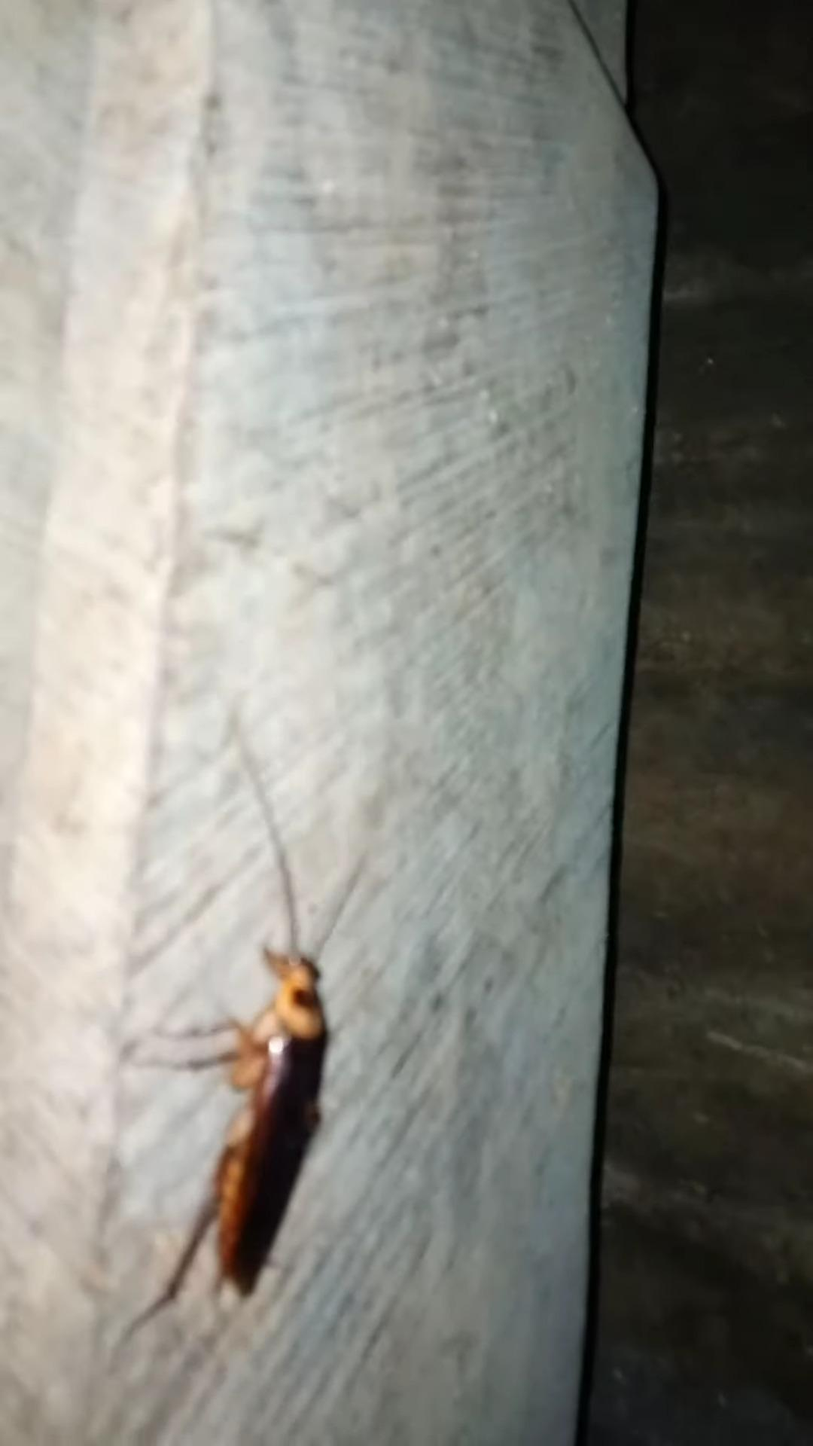cockroach: (129, 780, 339, 1347)
